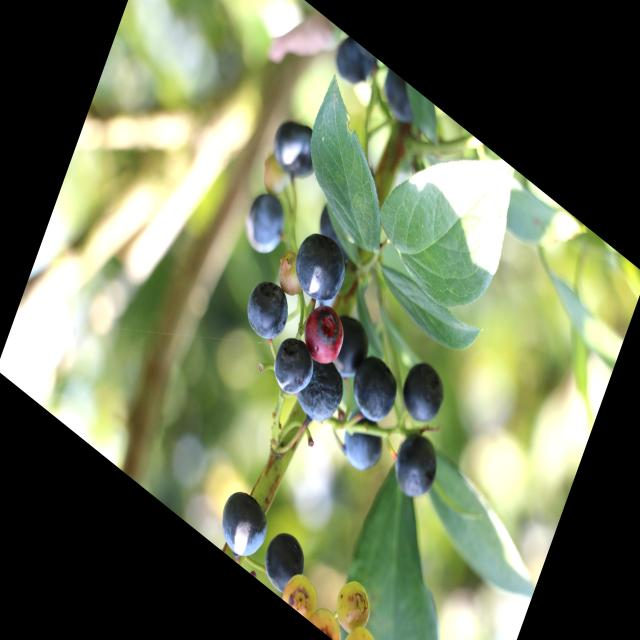blueberry: (282, 214, 358, 320), (382, 414, 451, 518), (288, 338, 355, 441), (343, 339, 411, 437), (260, 98, 327, 196), (211, 476, 278, 573), (253, 516, 318, 611), (235, 263, 299, 358), (233, 175, 296, 271), (392, 346, 455, 438), (332, 398, 392, 487), (264, 323, 322, 411), (322, 306, 378, 394), (308, 193, 364, 267), (326, 29, 380, 102), (373, 66, 427, 138)
blueberry-halfripe: (297, 292, 350, 373)
blueberry-unripe: (329, 571, 376, 640), (280, 564, 324, 623), (273, 246, 310, 303), (306, 595, 348, 640), (340, 618, 384, 640)
